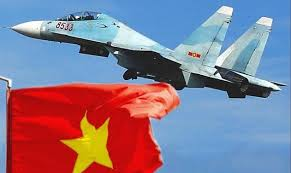maybay_muctieu: (14, 9, 283, 99)
